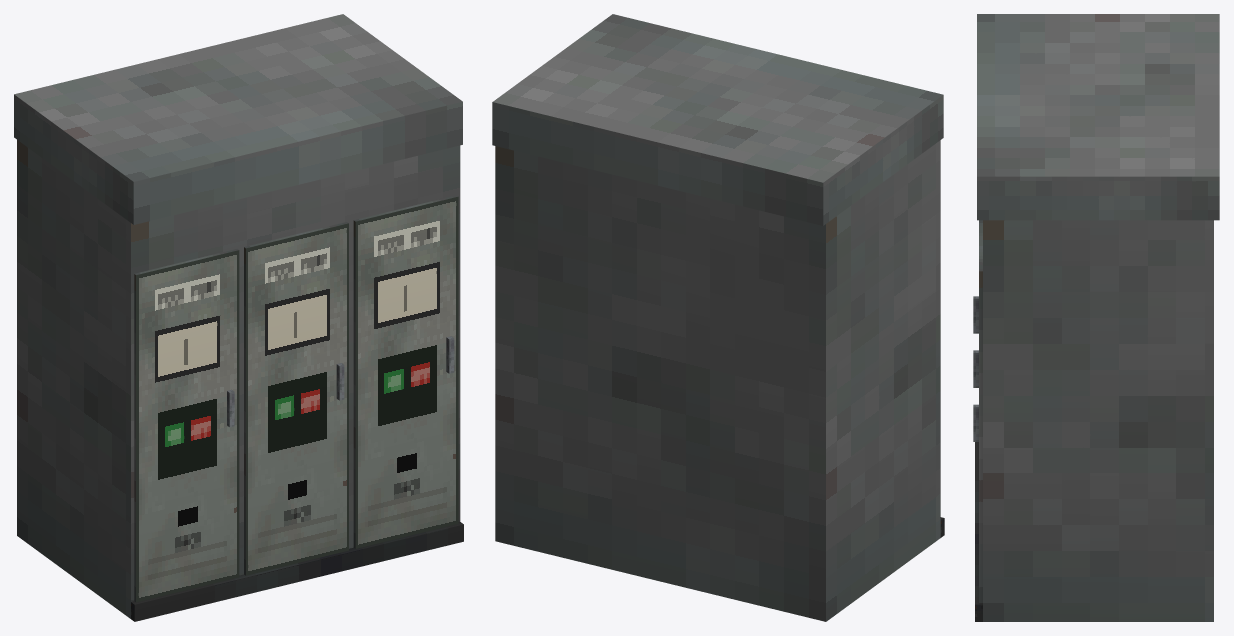
The model's file is switchgear_run.glb.
The picture shows the model from 3 angles, left to right: view 1: azimuth 30°, elevation 25°; view 2: azimuth 150°, elevation 25°; view 3: azimuth 270°, elevation 25°; orthographic projection.
Visible parts, largest first — view 1: switchgear_run; view 2: switchgear_run; view 3: switchgear_run.
Boxes of the visible parts, bbox=[...] form: switchgear_run: bbox=[14, 14, 463, 621]; switchgear_run: bbox=[492, 14, 944, 621]; switchgear_run: bbox=[973, 14, 1219, 621].
Bounding box in the file's own units: 2 × 2.55 × 1.28.
Materials: 1 (1 with a texture image).
